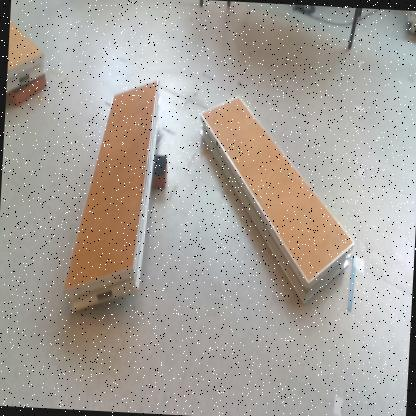Stairs: (201, 95, 355, 305), (61, 81, 163, 318), (7, 20, 46, 94)
